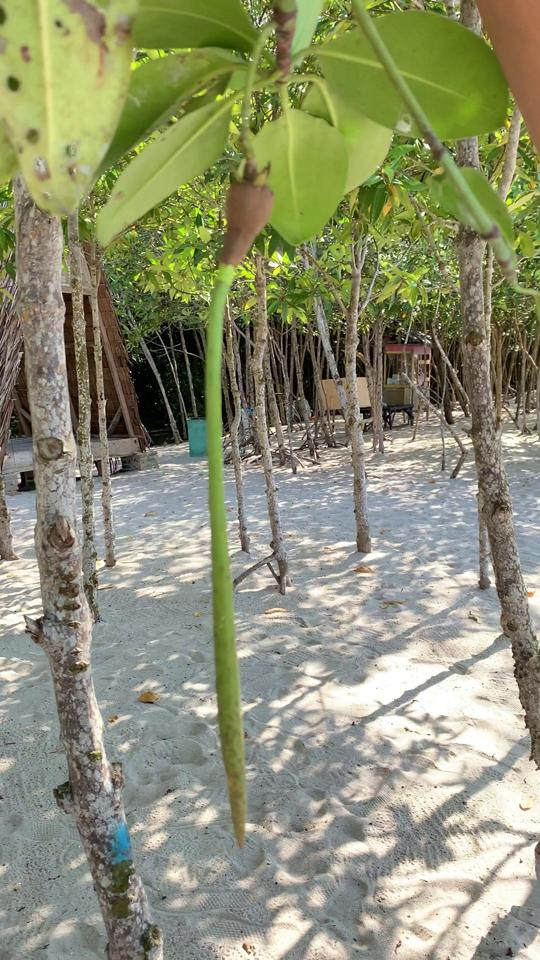setengah matang: (200, 148, 291, 862)
